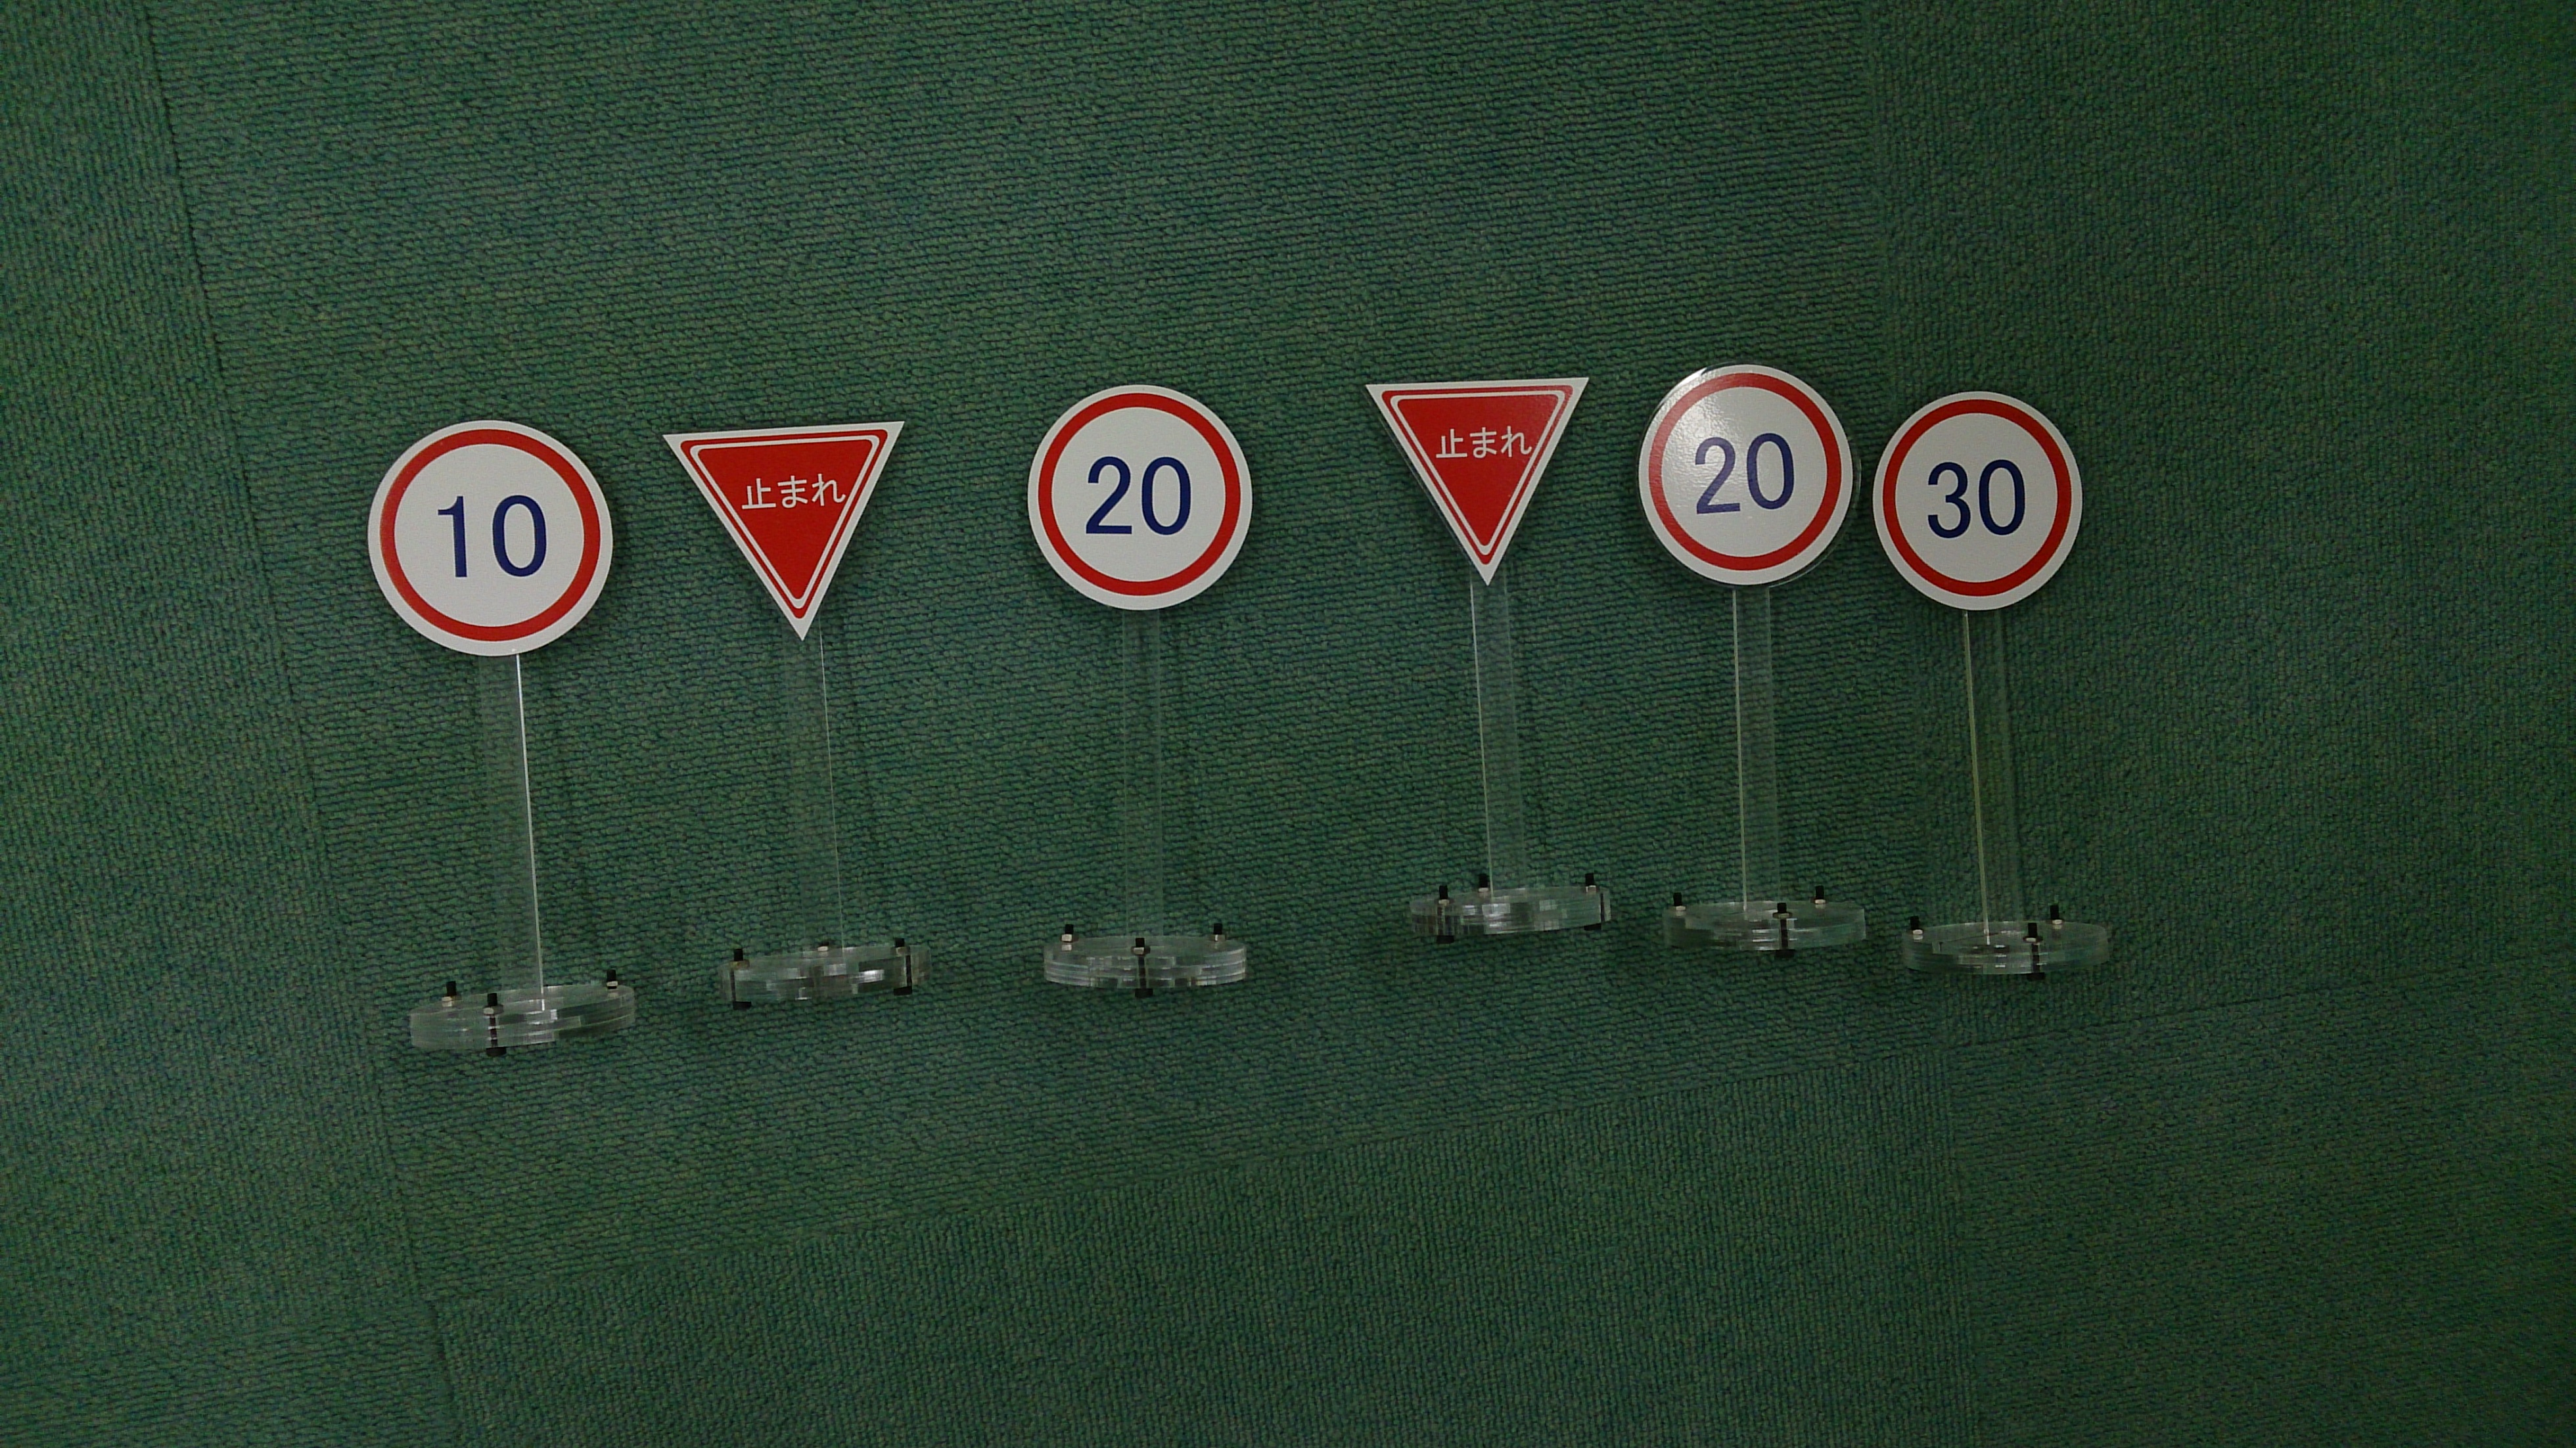speed_10: (368, 419, 614, 658)
speed_20: (1028, 385, 1253, 610), (1638, 362, 1852, 585)
speed_30: (1874, 391, 2081, 612)
stop: (667, 423, 904, 640), (1364, 380, 1587, 583)
